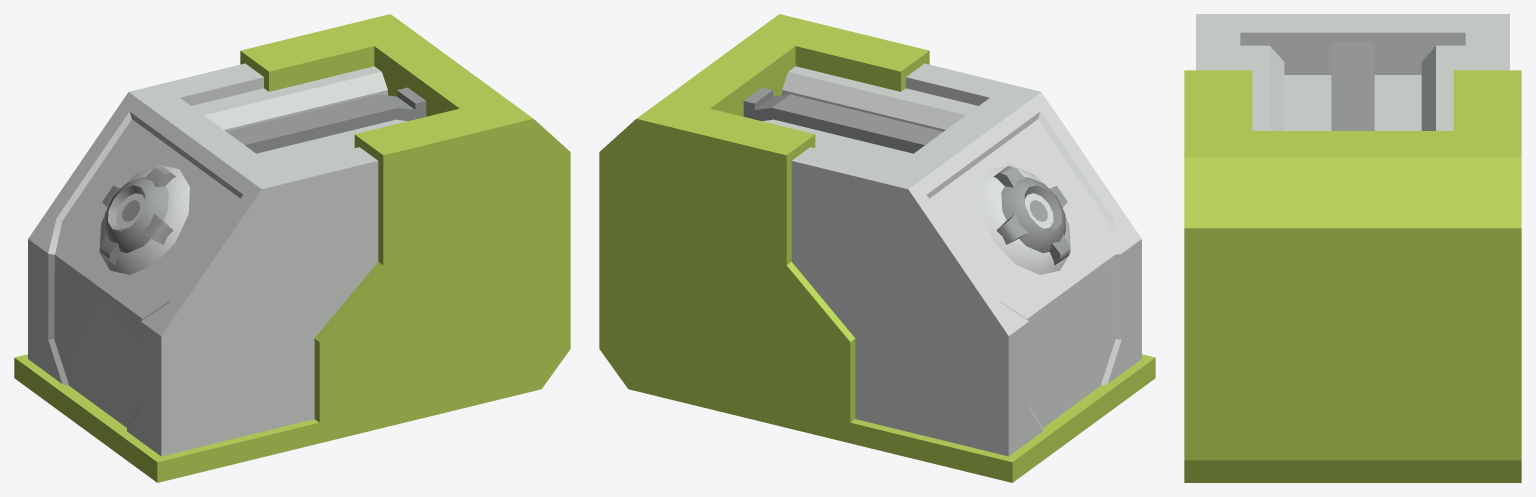
3 views of the same model, side by side, from view 1: azimuth 30°, elevation 25°; view 2: azimuth 150°, elevation 25°; view 3: azimuth 270°, elevation 25° (orthographic). The views are drawn at different scales.
Visible parts, largest first — view 1: G:\FFXIV-MapTools\exports\x6t1\bg\ex5\01_xkt_x6\twn\x6t1\bgp (×2); view 2: G:\FFXIV-MapTools\exports\x6t1\bg\ex5\01_xkt_x6\twn\x6t1\bgp (×2); view 3: G:\FFXIV-MapTools\exports\x6t1\bg\ex5\01_xkt_x6\twn\x6t1\bgp (×2).
Part boxes in pixels (<box>): G:\FFXIV-MapTools\exports\x6t1\bg\ex5\01_xkt_x6\twn\x6t1\bgp (×2): <box>14,14,570,482</box>; G:\FFXIV-MapTools\exports\x6t1\bg\ex5\01_xkt_x6\twn\x6t1\bgp (×2): <box>599,14,1155,482</box>; G:\FFXIV-MapTools\exports\x6t1\bg\ex5\01_xkt_x6\twn\x6t1\bgp (×2): <box>1184,14,1521,482</box>.
Bounding box in the file's own units: 0.9521 × 0.6001 × 0.5713.
